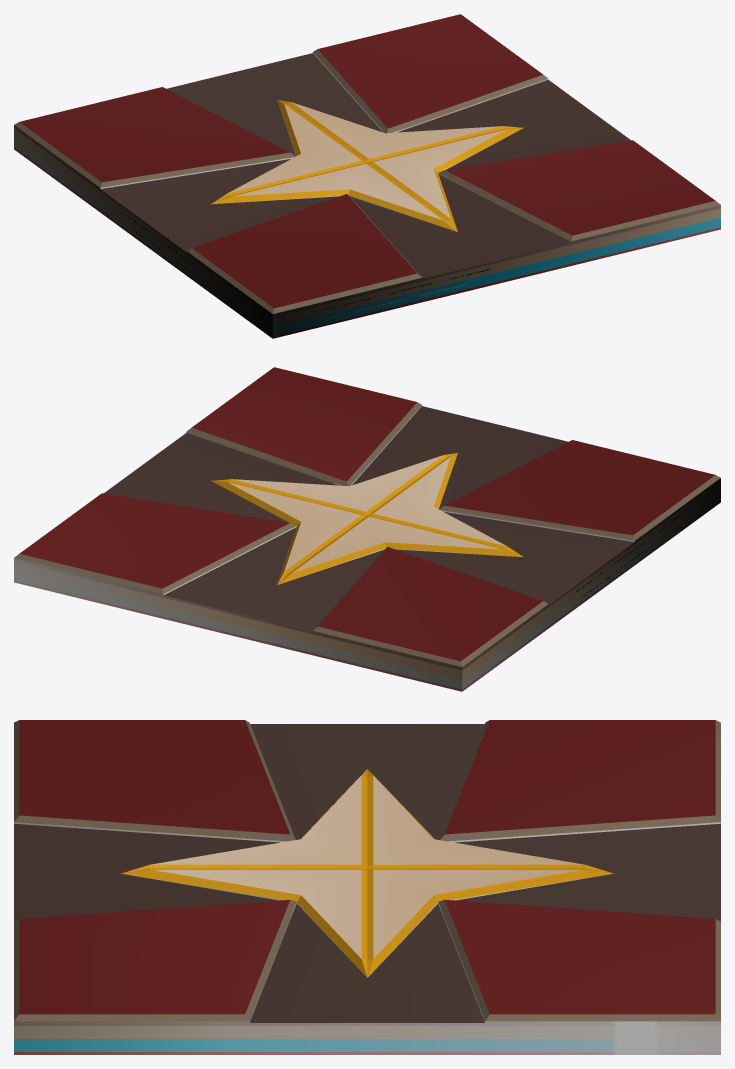
The model's file is chaoMadeira_lab_varianteUm_LoPo.fbx.
The picture shows the model from 3 angles, top to bottom: view 1: azimuth 30°, elevation 25°; view 2: azimuth 150°, elevation 25°; view 3: azimuth 270°, elevation 25°; orthographic projection. The views are drawn at different scales.
Visible parts, largest first — view 1: chaoMadeira_lab_varianteUm_LoPo; view 2: chaoMadeira_lab_varianteUm_LoPo; view 3: chaoMadeira_lab_varianteUm_LoPo.
Part boxes in pixels (box(x1,y1,x2,y2)): chaoMadeira_lab_varianteUm_LoPo: box(14, 14, 720, 338); chaoMadeira_lab_varianteUm_LoPo: box(14, 367, 720, 691); chaoMadeira_lab_varianteUm_LoPo: box(14, 720, 720, 1054).
Bounding box in the file's own units: 200 × 12 × 200.
